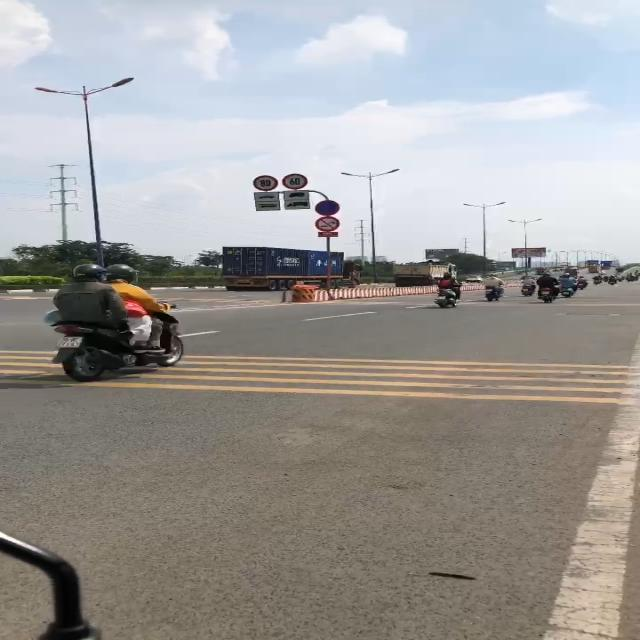Bien bao toc do toi da cho phep: (281, 172, 309, 190), (252, 174, 280, 192)
